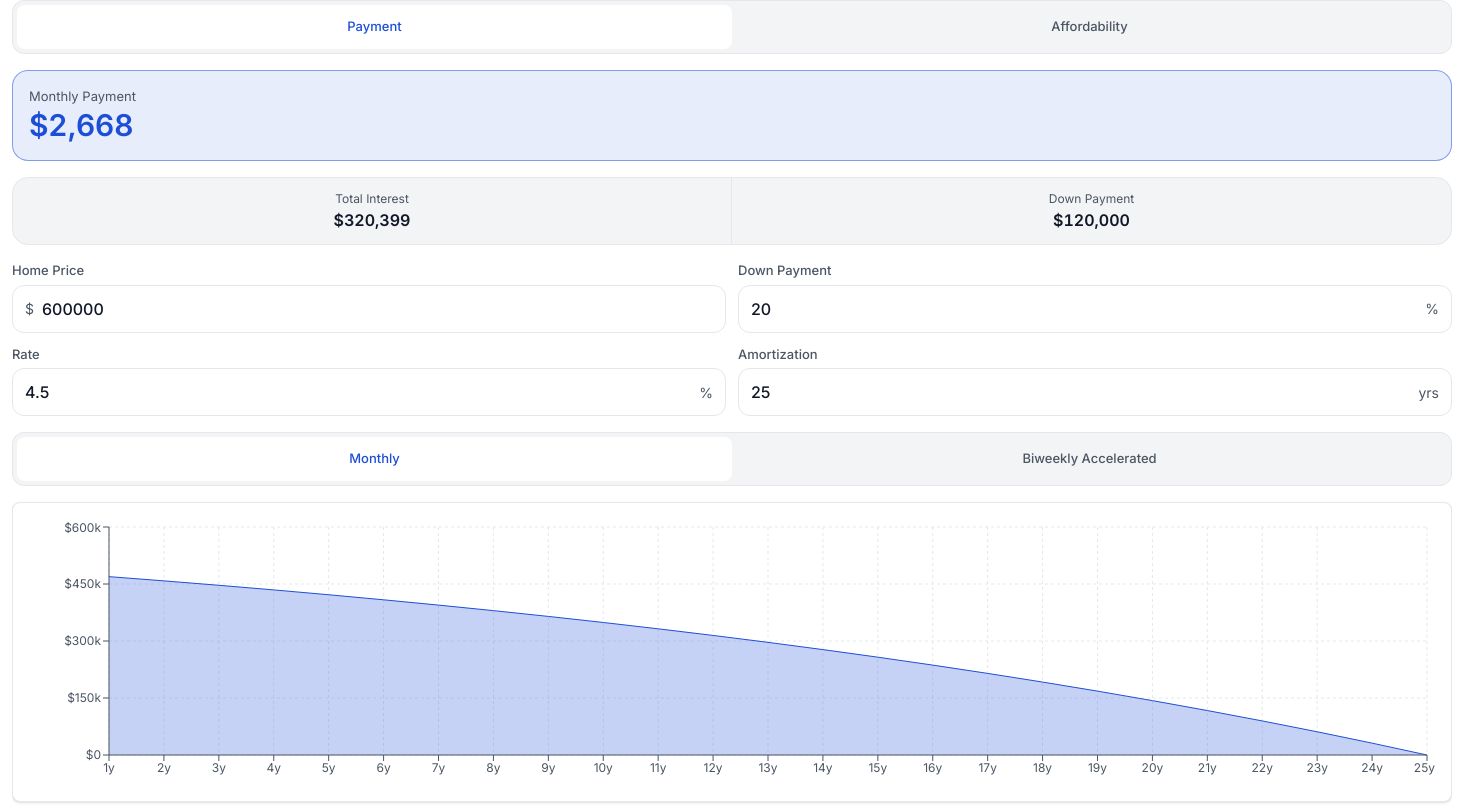
keeps the affordability note behind Estimation Details
Expected: the text "Estimation Details" is not shown
Click the button "Affordability".
click(1090, 27)  # box [732,5,1447,49]
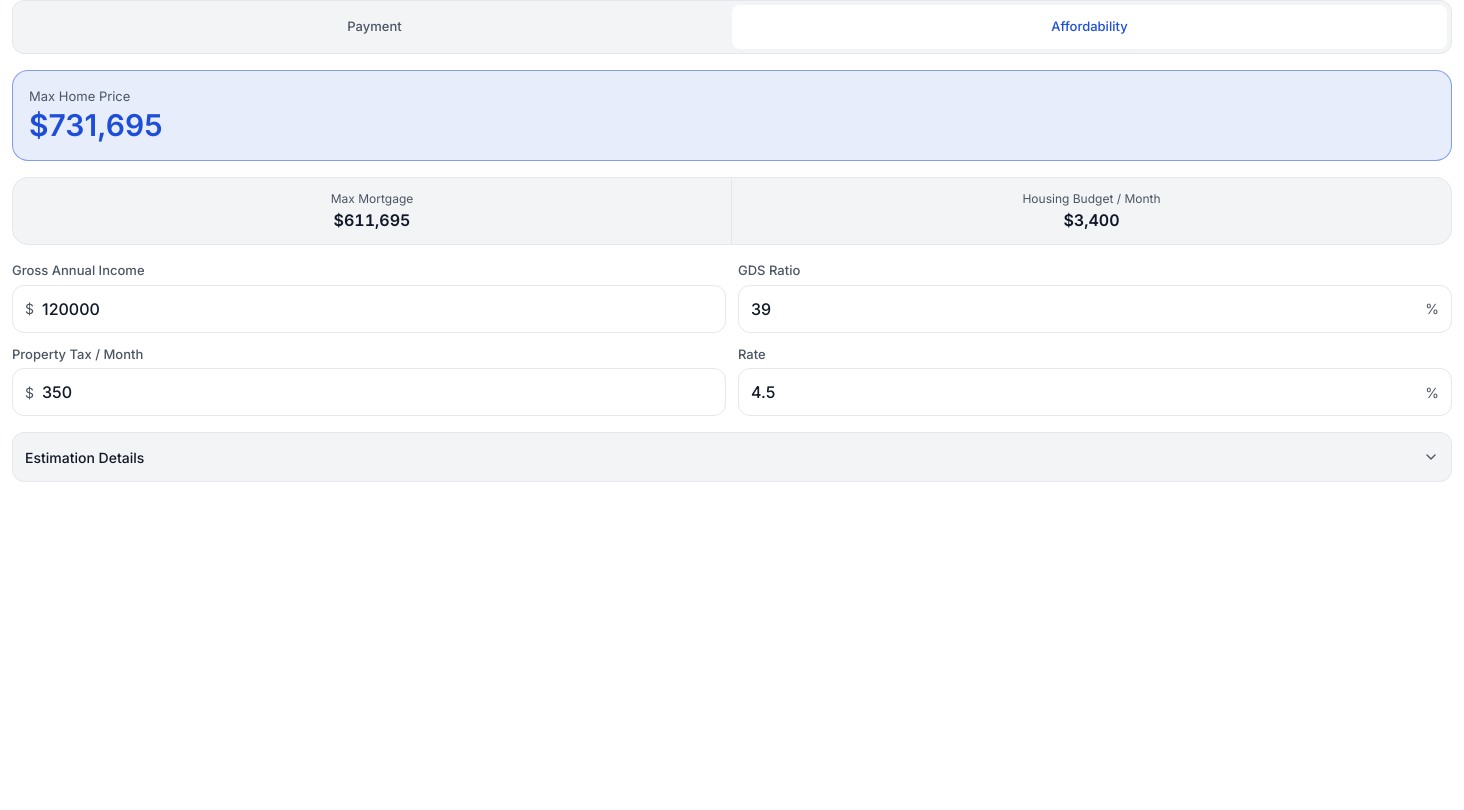
Expected: the text "GDS estimate" is not shown
Now the text "Max Home Price" is shown, box [29,88,130,104]
Click the button "Estimation Details".
click(85, 457)  # box [13,433,1451,481]
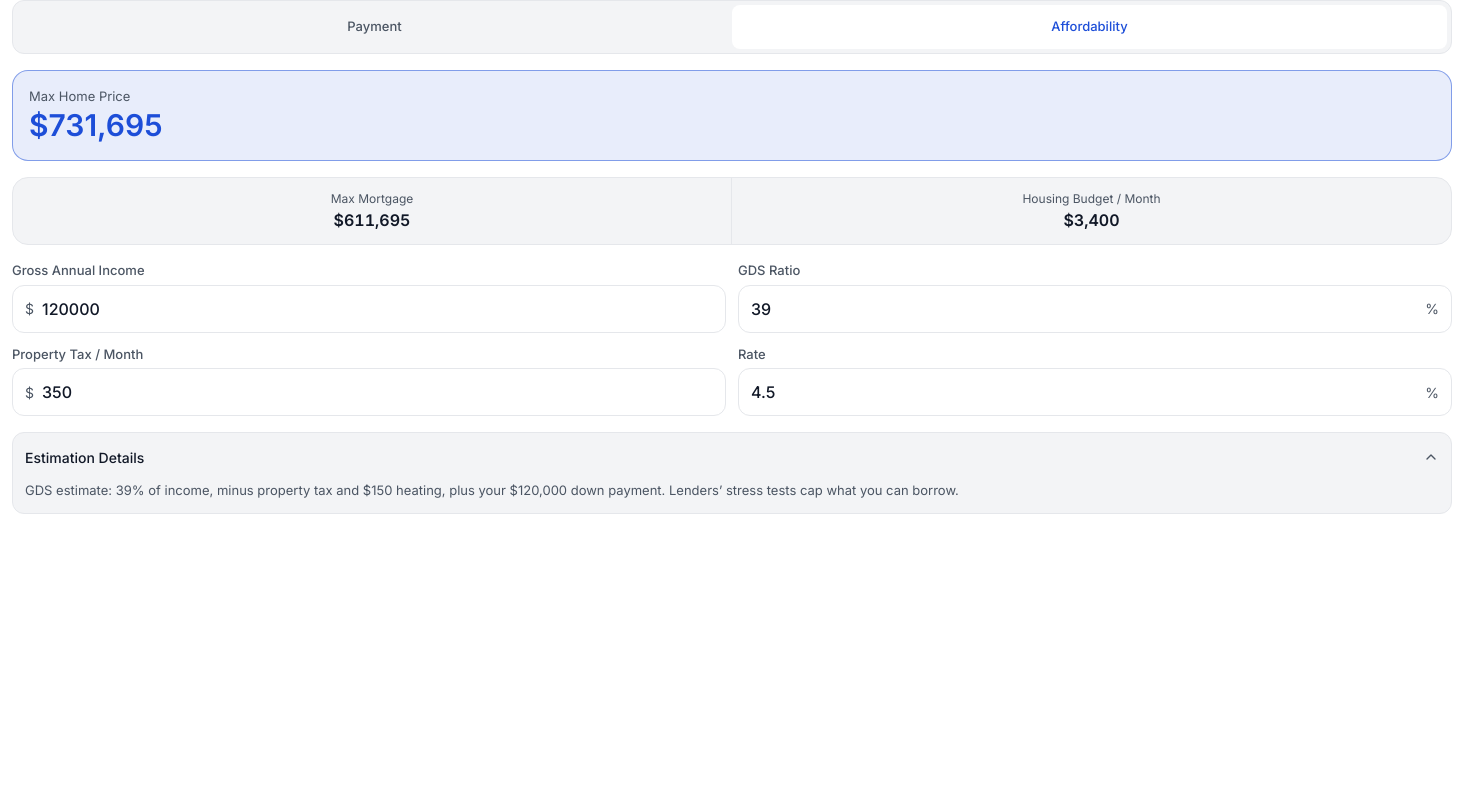
Now the text "GDS estimate: 39% of income" is shown, box [25,482,959,498]
